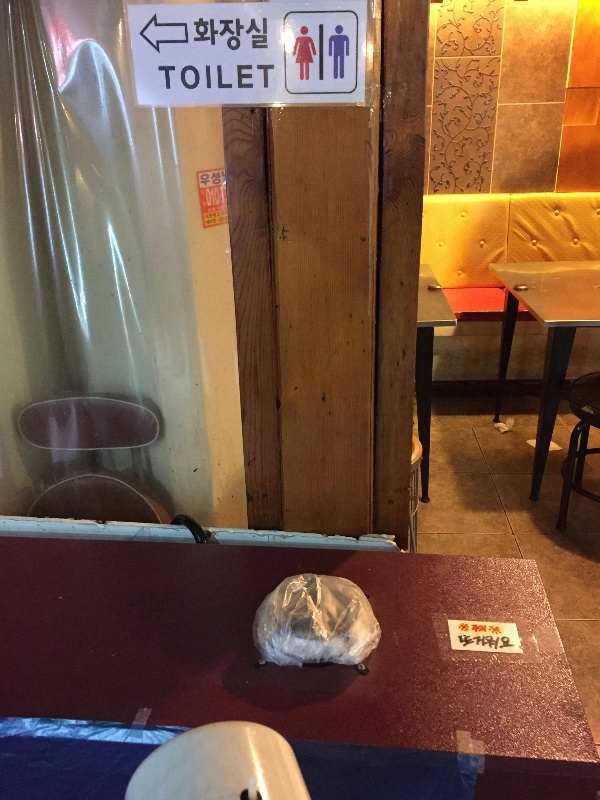text: (193, 17, 208, 53), (209, 17, 224, 53), (225, 17, 240, 53), (241, 17, 256, 53), (257, 17, 268, 53), (161, 65, 176, 90), (177, 65, 192, 90), (193, 65, 208, 90), (209, 65, 224, 90), (225, 65, 240, 90), (241, 65, 256, 90), (257, 65, 272, 90), (209, 186, 220, 208), (465, 635, 480, 651), (481, 635, 496, 651), (497, 635, 512, 651), (209, 171, 224, 187), (465, 624, 480, 635), (481, 624, 496, 635), (200, 171, 208, 187), (458, 635, 464, 651), (209, 212, 220, 220), (204, 190, 208, 208), (205, 186, 208, 208), (513, 635, 517, 651), (459, 624, 464, 635), (497, 624, 502, 635), (158, 65, 160, 90), (209, 218, 216, 225), (219, 215, 224, 223), (225, 215, 229, 223), (273, 65, 274, 90), (205, 212, 208, 220), (221, 210, 224, 216), (225, 210, 228, 216), (225, 171, 226, 187), (206, 218, 208, 225)
